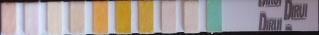color 1: (2, 5, 14, 33)
color 10: (208, 1, 220, 29)
color 2: (25, 5, 37, 32)
color 3: (48, 3, 60, 33)
color 4: (71, 3, 83, 33)
color 5: (94, 2, 106, 33)
color 6: (117, 2, 129, 32)
color 7: (140, 3, 152, 32)
color 8: (163, 2, 174, 32)
color 9: (184, 2, 197, 31)
